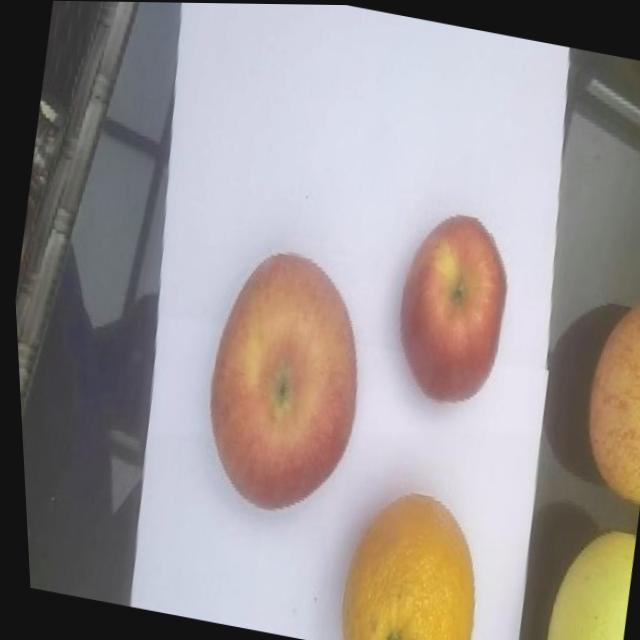Apple: (180, 241, 380, 524), (376, 204, 520, 411), (561, 276, 640, 504)
Orange: (321, 481, 487, 640)
